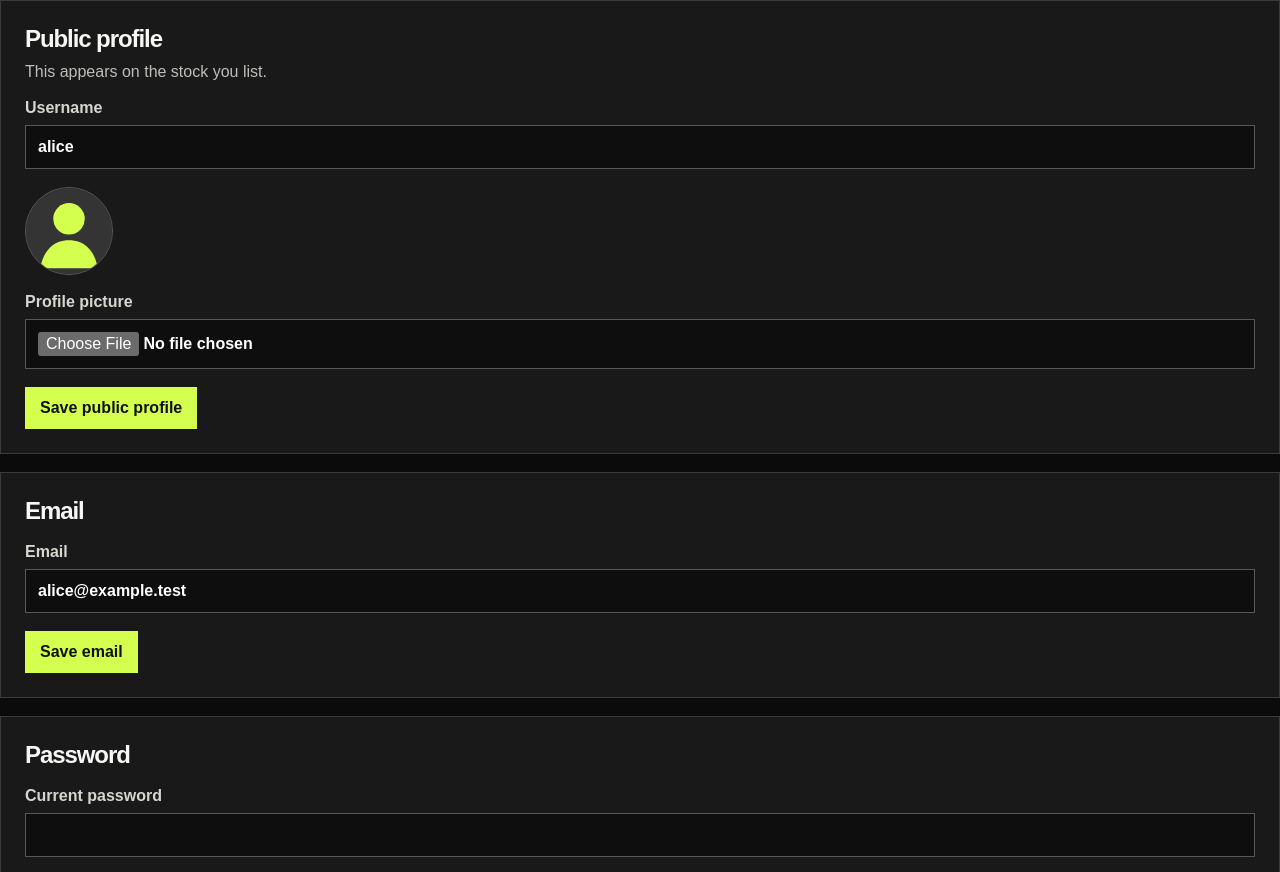
Test case: ProfileForm › does not send mismatched new passwords
In the password field labelled "Current password": (640, 835) x1=25 y1=813 x2=1255 y2=857, type "a-long-enough-password"
(page scrolled)
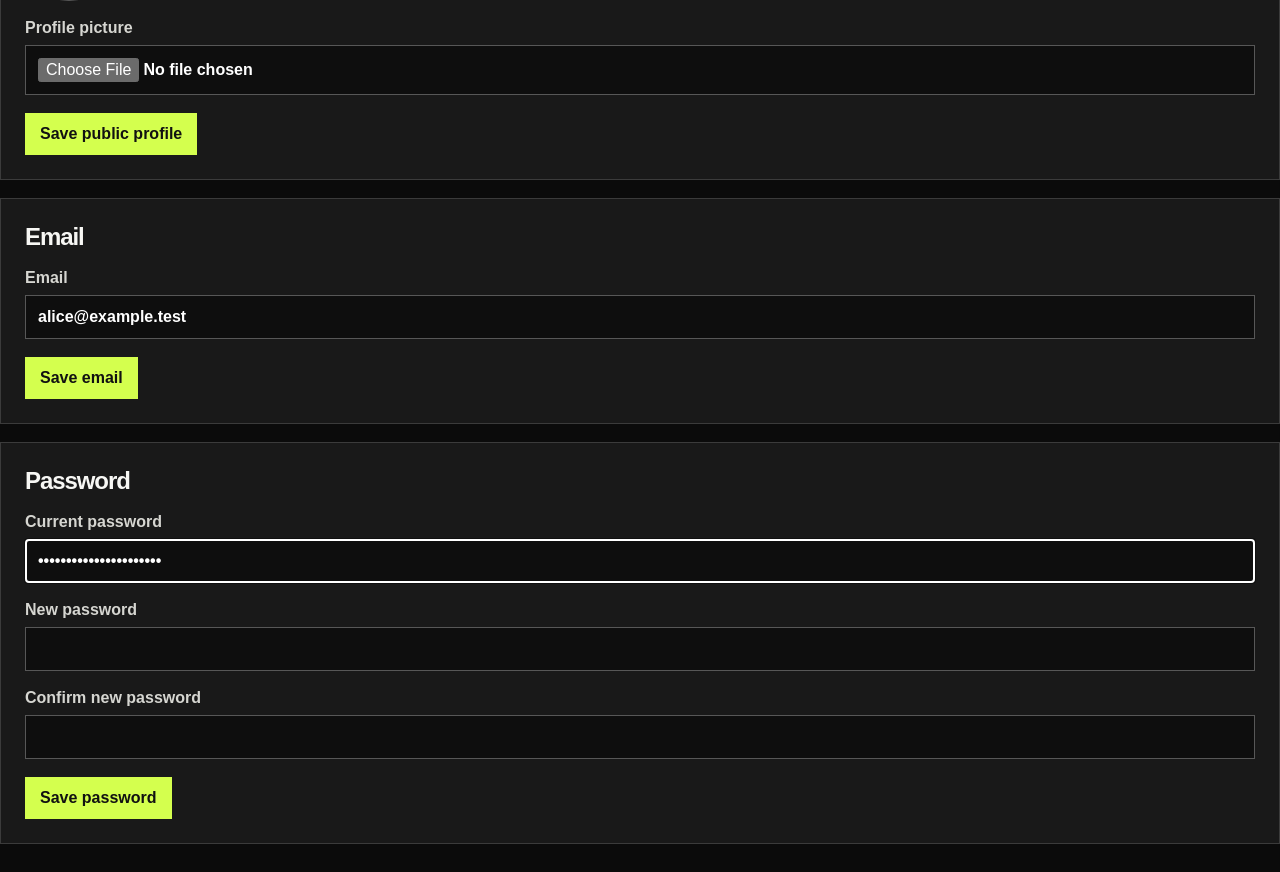
In the password field labelled "New password": (640, 649) x1=25 y1=627 x2=1255 y2=671, type "another-password"
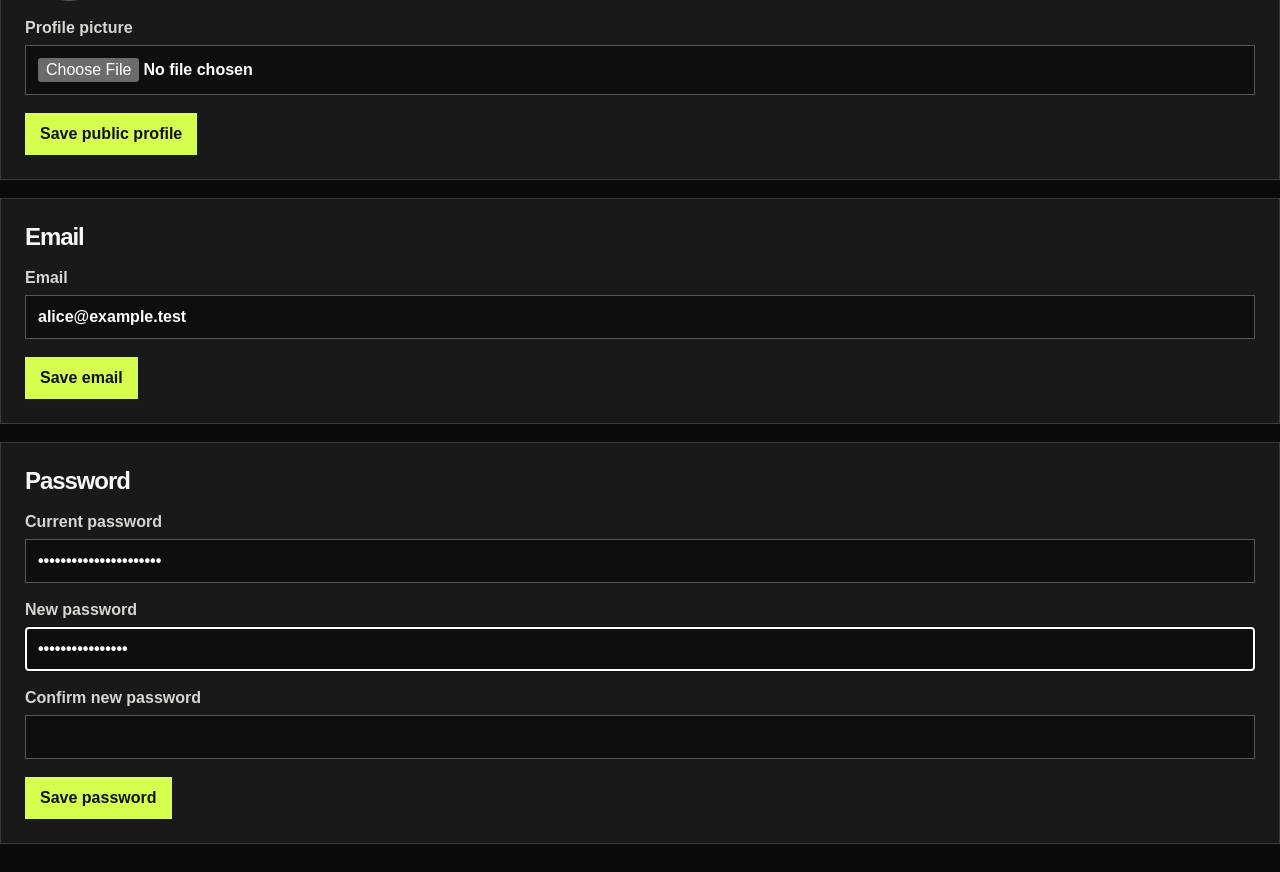
In the password field labelled "Confirm new password": (640, 737) x1=25 y1=715 x2=1255 y2=759, type "different-password"
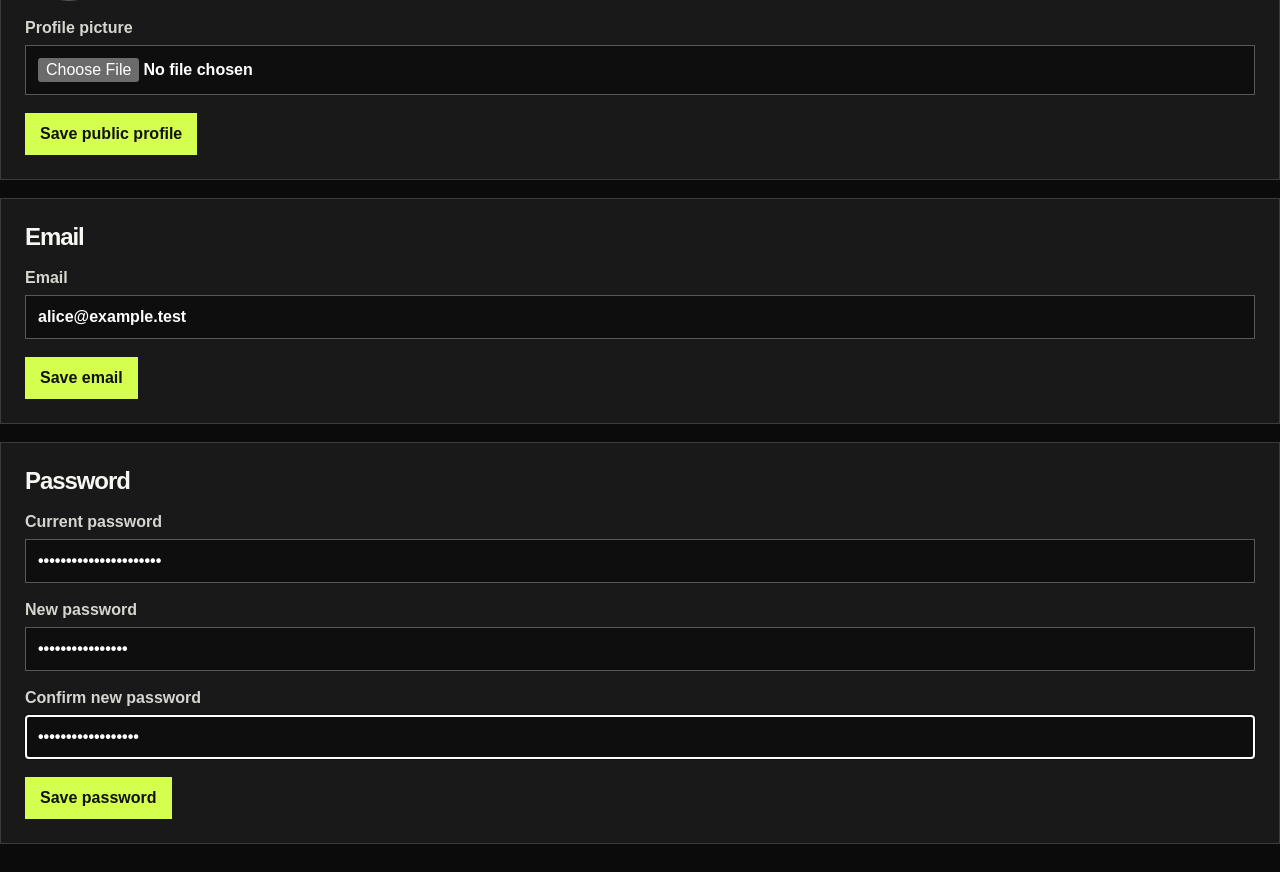
Click the button "Save password": (98, 798) x1=25 y1=777 x2=172 y2=819
(page scrolled)
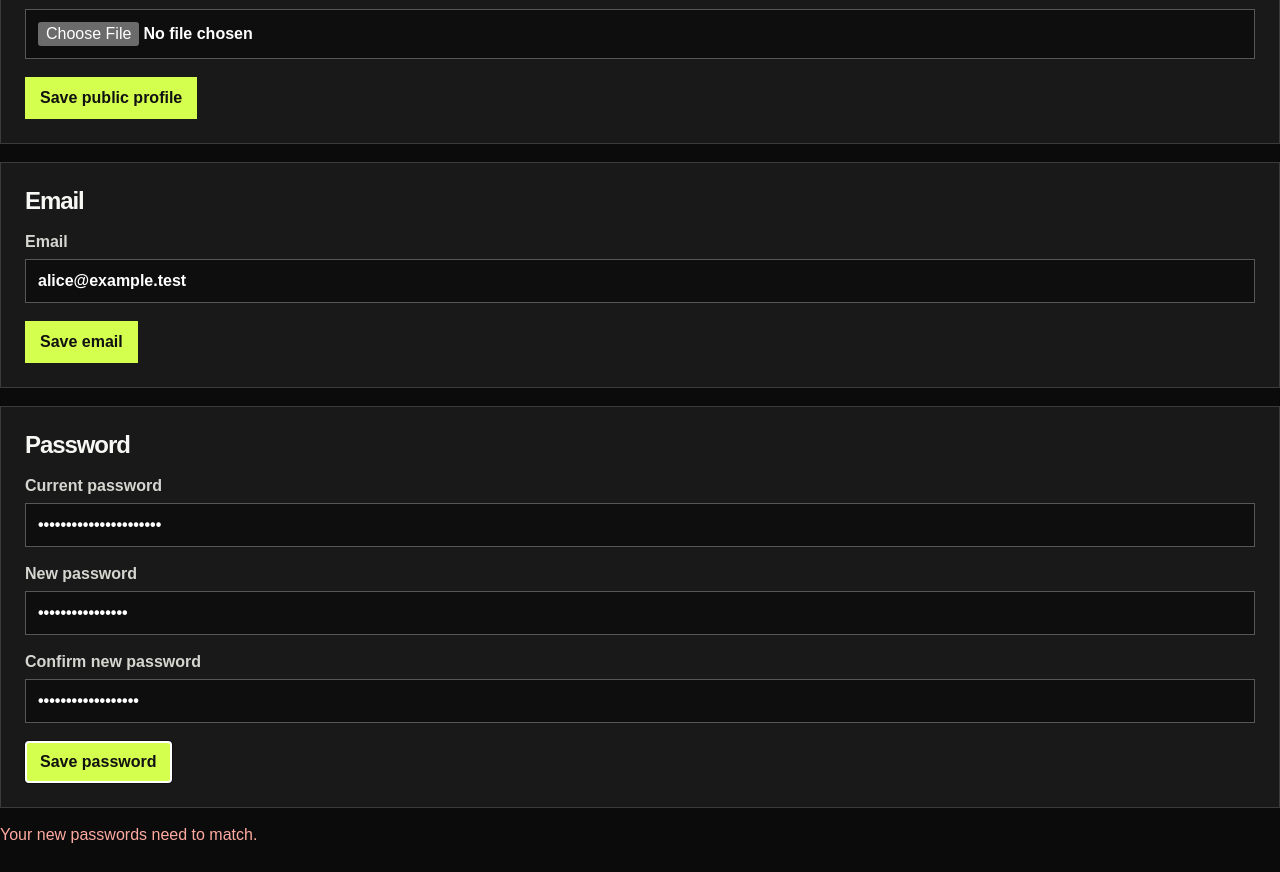
Check: the message reads "Your new passwords need to match.", box x1=0 y1=826 x2=257 y2=843
